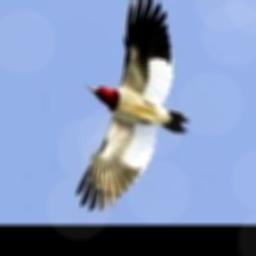Woodpecker: (76, 0, 190, 210)
